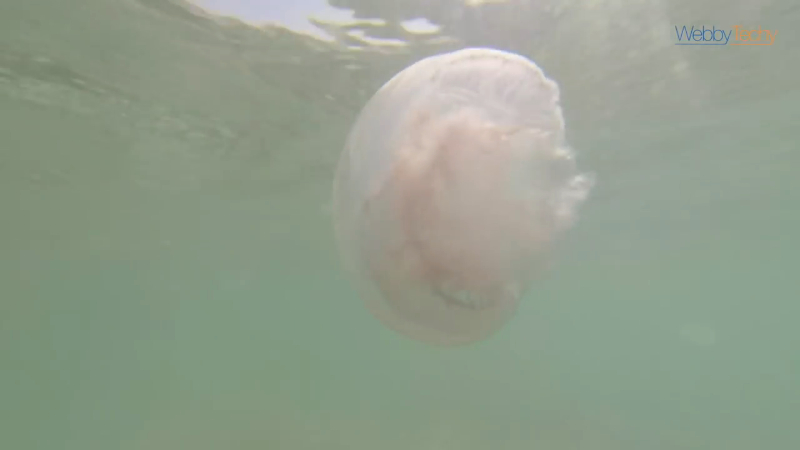white jellyfish: (326, 49, 590, 344)
